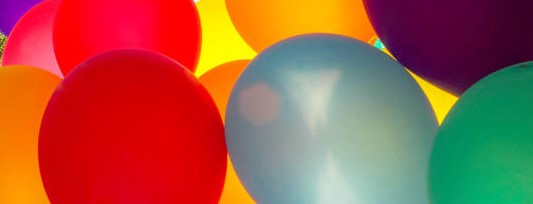Balloon: (224, 33, 440, 204), (39, 48, 224, 204)
